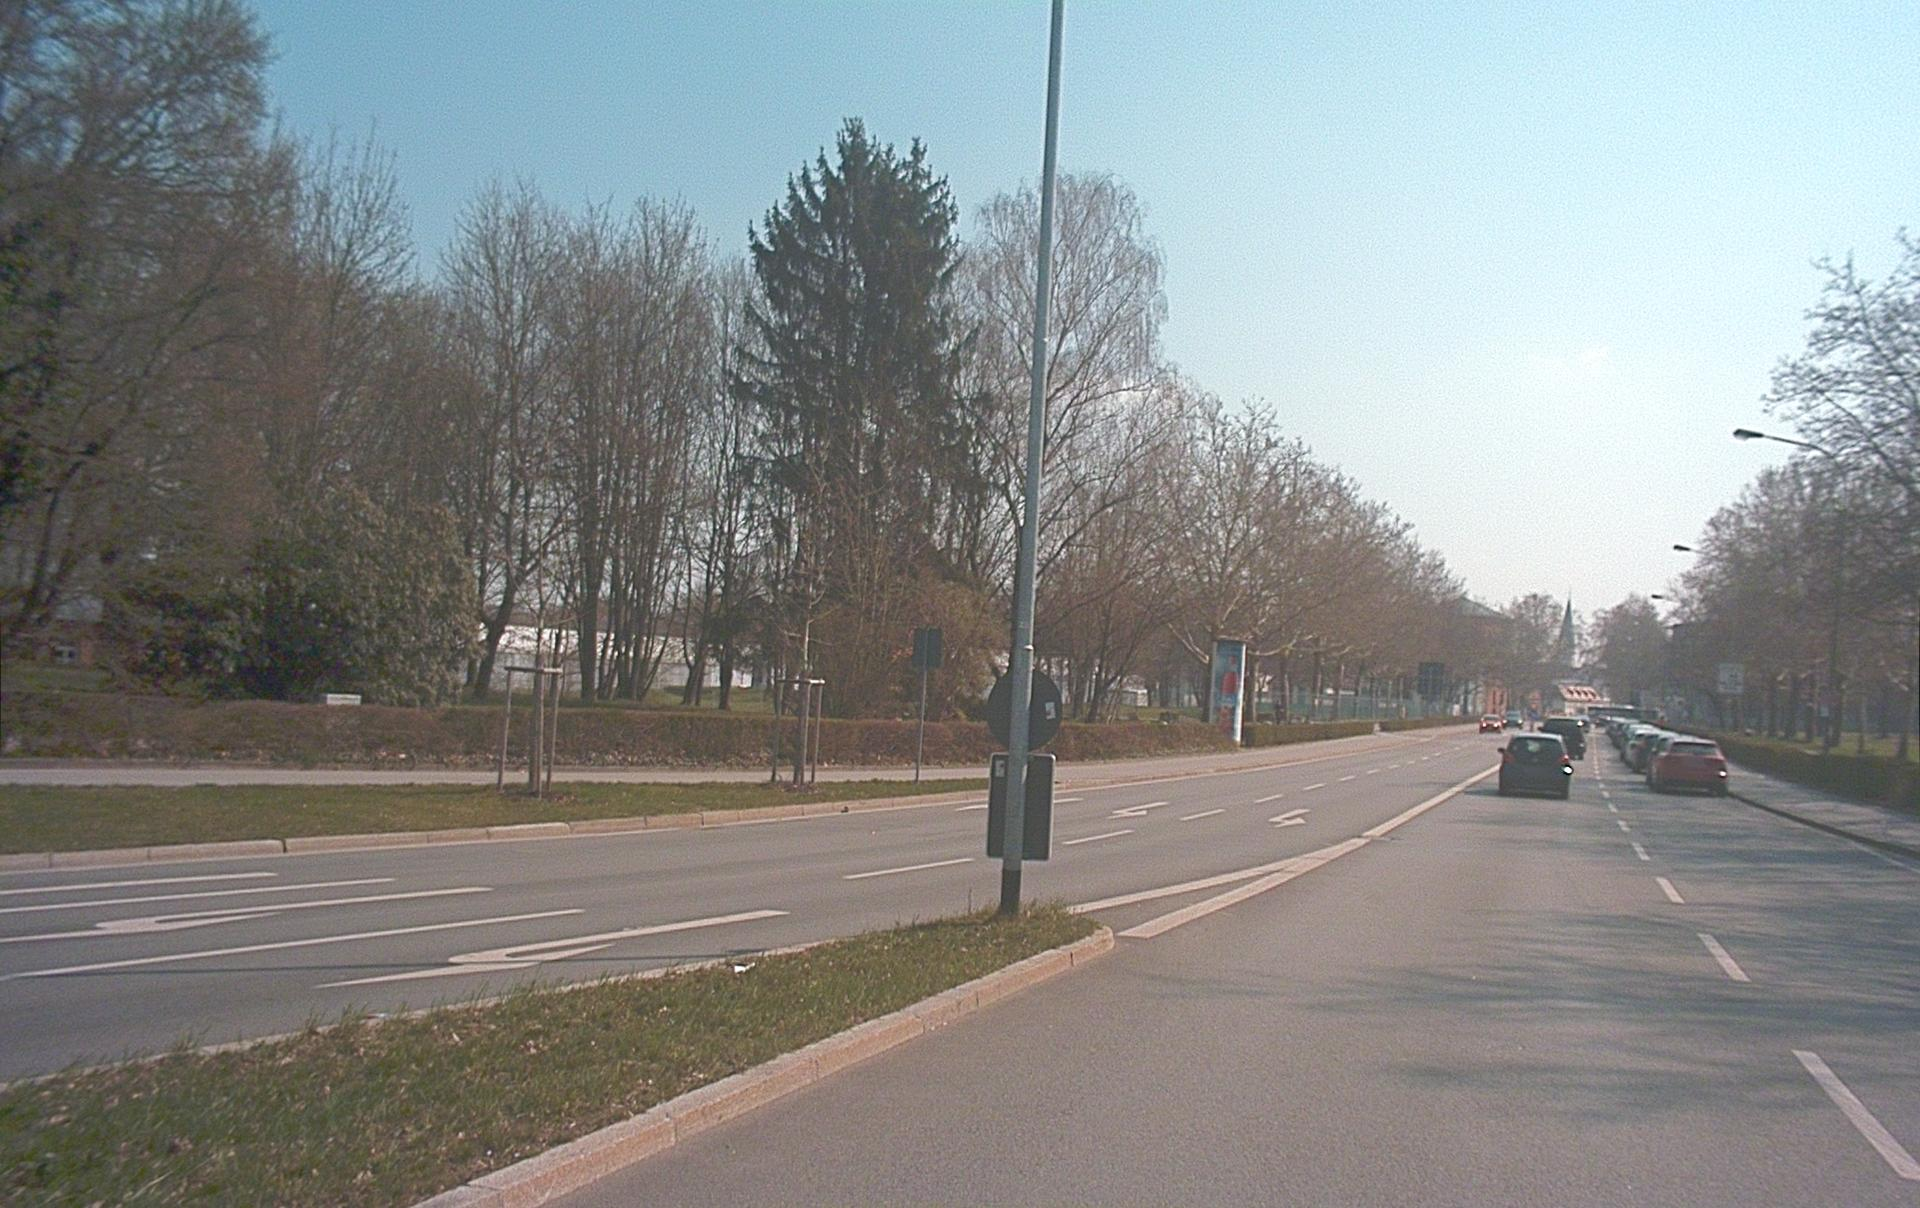car: (1646, 735, 1727, 795), (1498, 733, 1572, 798), (1541, 715, 1585, 758), (1479, 714, 1504, 732)
